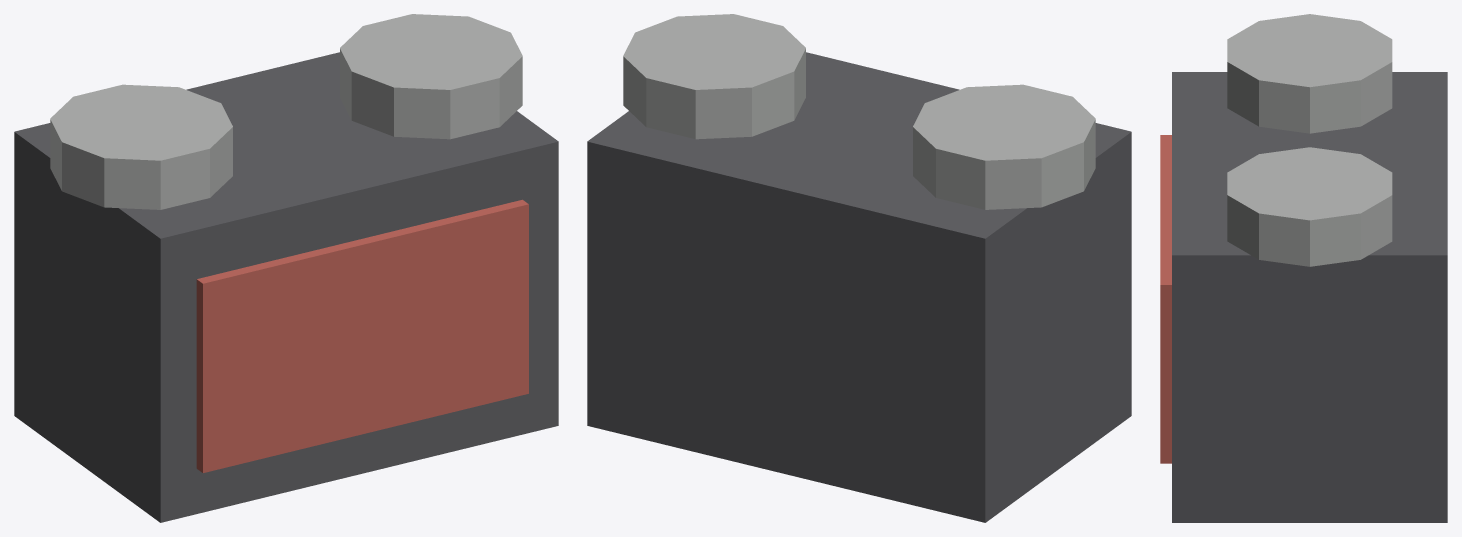
Rendered from alarmclock.glb.
The picture shows the model from 3 angles, left to right: view 1: azimuth 30°, elevation 25°; view 2: azimuth 150°, elevation 25°; view 3: azimuth 270°, elevation 25°; orthographic projection. The views are drawn at different scales.
Visible parts, largest first — view 1: NC_alarmclock; view 2: NC_alarmclock; view 3: NC_alarmclock.
Part boxes in pixels (<box>): NC_alarmclock: <box>14,14,558,522</box>; NC_alarmclock: <box>587,14,1131,522</box>; NC_alarmclock: <box>1160,14,1447,522</box>.
Bounding box in the file's own units: 0.124 × 0.088 × 0.073.
